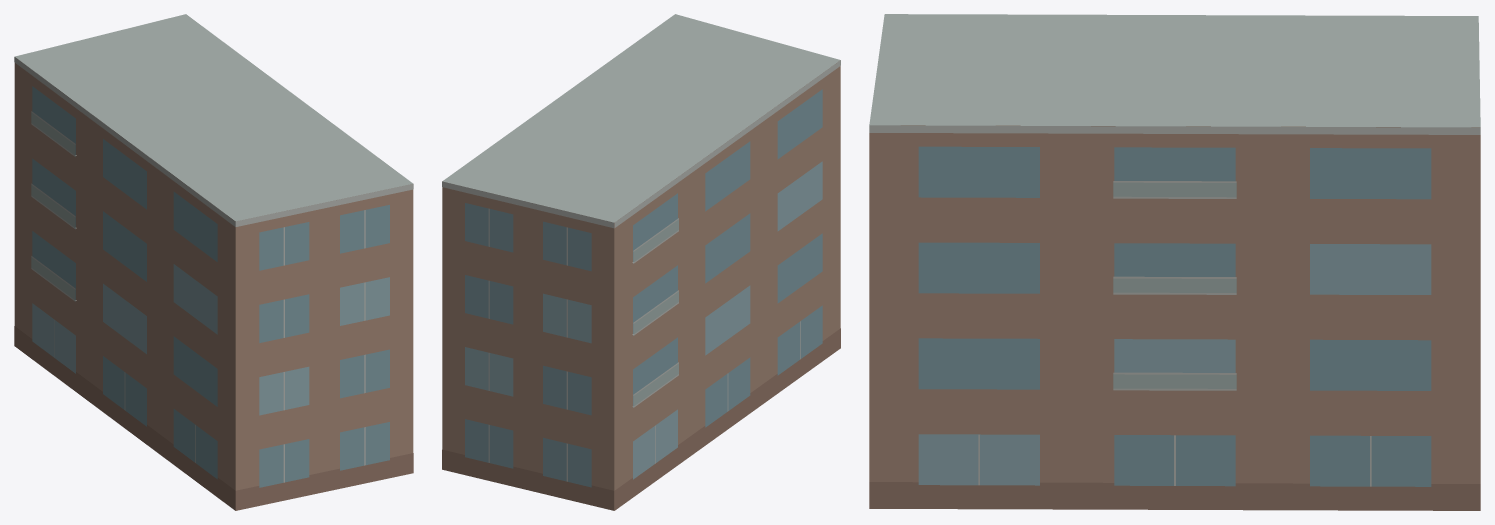
File: survey-upis-32989216.glb
3 views of the same model, side by side, from view 1: azimuth 30°, elevation 25°; view 2: azimuth 150°, elevation 25°; view 3: azimuth 270°, elevation 25° (orthographic). The views are drawn at different scales.
Visible parts, largest first — view 1: survey-upis-32989216.tmp; view 2: survey-upis-32989216.tmp; view 3: survey-upis-32989216.tmp.
Part boxes in pixels (x1,y1,x2,y2): survey-upis-32989216.tmp: (14, 14, 413, 510); survey-upis-32989216.tmp: (442, 14, 840, 510); survey-upis-32989216.tmp: (869, 14, 1480, 510).
Bounding box in the file's own units: 7.81 × 12.3 × 17.78.
